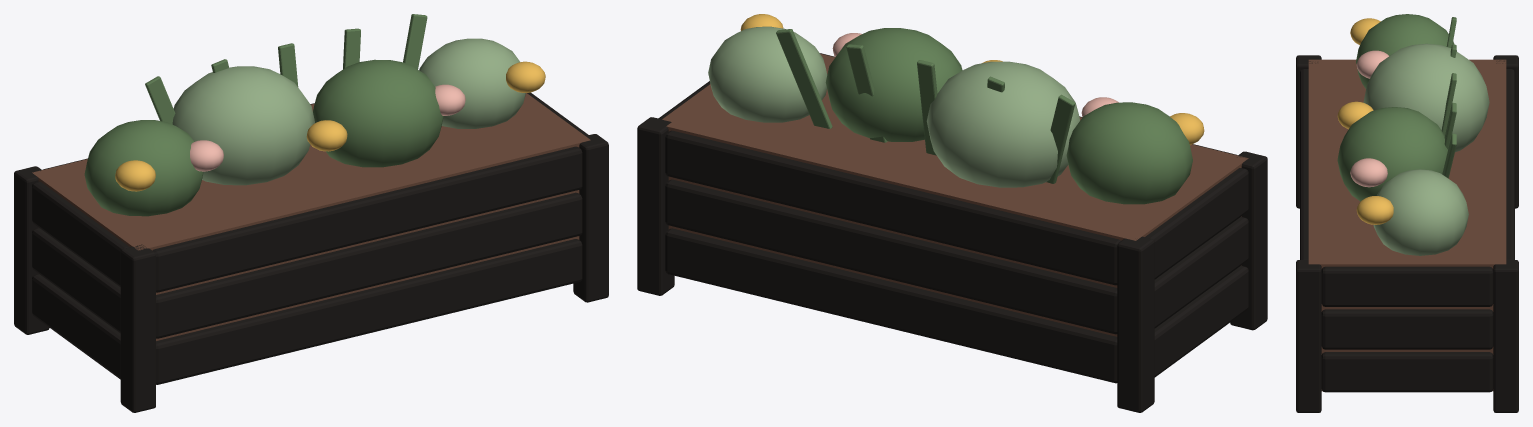
File: hh_cat_planter_box.glb
The picture shows the model from 3 angles, left to right: view 1: azimuth 30°, elevation 25°; view 2: azimuth 150°, elevation 25°; view 3: azimuth 270°, elevation 25°; orthographic projection. The views are drawn at different scales.
Parts seen in each view (by area): view 1: liner, plank.008, plank.004, plank, plant.001, plant.002, plant, plant.003, post, post.002, plank.010, plank.006 (+11 smaller); view 2: liner, plank.009, plank.005, plank.001, plant.001, plant, plant.002, plant.003, post.001, post.003, plank.010, plank.002 (+7 smaller); view 3: liner, plant.001, plank.007, plank.011, plank.003, plant.003, plant.002, post.002, post.003, plant, plank.008, plank.009 (+10 smaller).
Boxes of the visible parts, bbox=[...] form: liner: bbox=[32, 93, 590, 340]; plank.008: bbox=[152, 146, 582, 292]; plank.004: bbox=[156, 192, 582, 338]; plank: bbox=[156, 239, 582, 384]; plant.001: bbox=[172, 66, 314, 185]; plant.002: bbox=[313, 59, 443, 167]; plant: bbox=[84, 120, 203, 216]; plant.003: bbox=[419, 38, 525, 128]; post: bbox=[120, 244, 155, 412]; post.002: bbox=[573, 134, 608, 302]; plank.010: bbox=[32, 181, 129, 286]; plank.006: bbox=[32, 228, 120, 333]; liner: bbox=[662, 53, 1248, 336]; plank.009: bbox=[665, 130, 1120, 285]; plank.005: bbox=[665, 179, 1117, 334]; plank.001: bbox=[665, 228, 1117, 383]; plant.001: bbox=[926, 61, 1079, 187]; plant: bbox=[1066, 102, 1192, 204]; plant.002: bbox=[825, 28, 962, 141]; plant.003: bbox=[708, 26, 827, 122]; post.001: bbox=[1117, 236, 1154, 412]; post.003: bbox=[637, 117, 674, 295]; plank.010: bbox=[1145, 168, 1248, 279]; plank.002: bbox=[1154, 266, 1248, 377]; liner: bbox=[1308, 59, 1506, 391]; plant.001: bbox=[1363, 43, 1489, 152]; plank.007: bbox=[1321, 309, 1493, 349]; plank.011: bbox=[1321, 266, 1493, 306]; plank.003: bbox=[1321, 352, 1493, 392]; plant.003: bbox=[1373, 169, 1468, 255]; plant.002: bbox=[1337, 107, 1447, 201]; post.002: bbox=[1296, 260, 1321, 412]; post.003: bbox=[1493, 260, 1518, 412]; plant: bbox=[1356, 14, 1456, 88]; plank.008: bbox=[1300, 69, 1308, 259]; plank.009: bbox=[1506, 69, 1514, 259].
Bounding box in the file's own units: 0.8 × 0.4 × 0.35.
